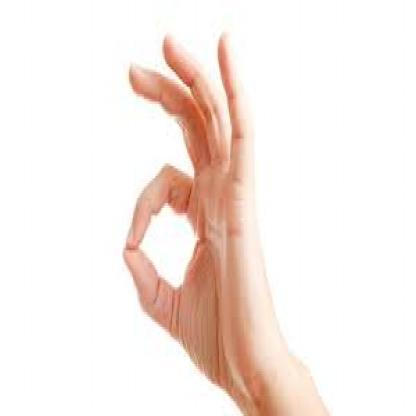ok: (118, 26, 264, 378)
